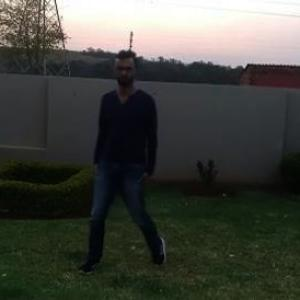follow: (100, 48, 174, 275)
